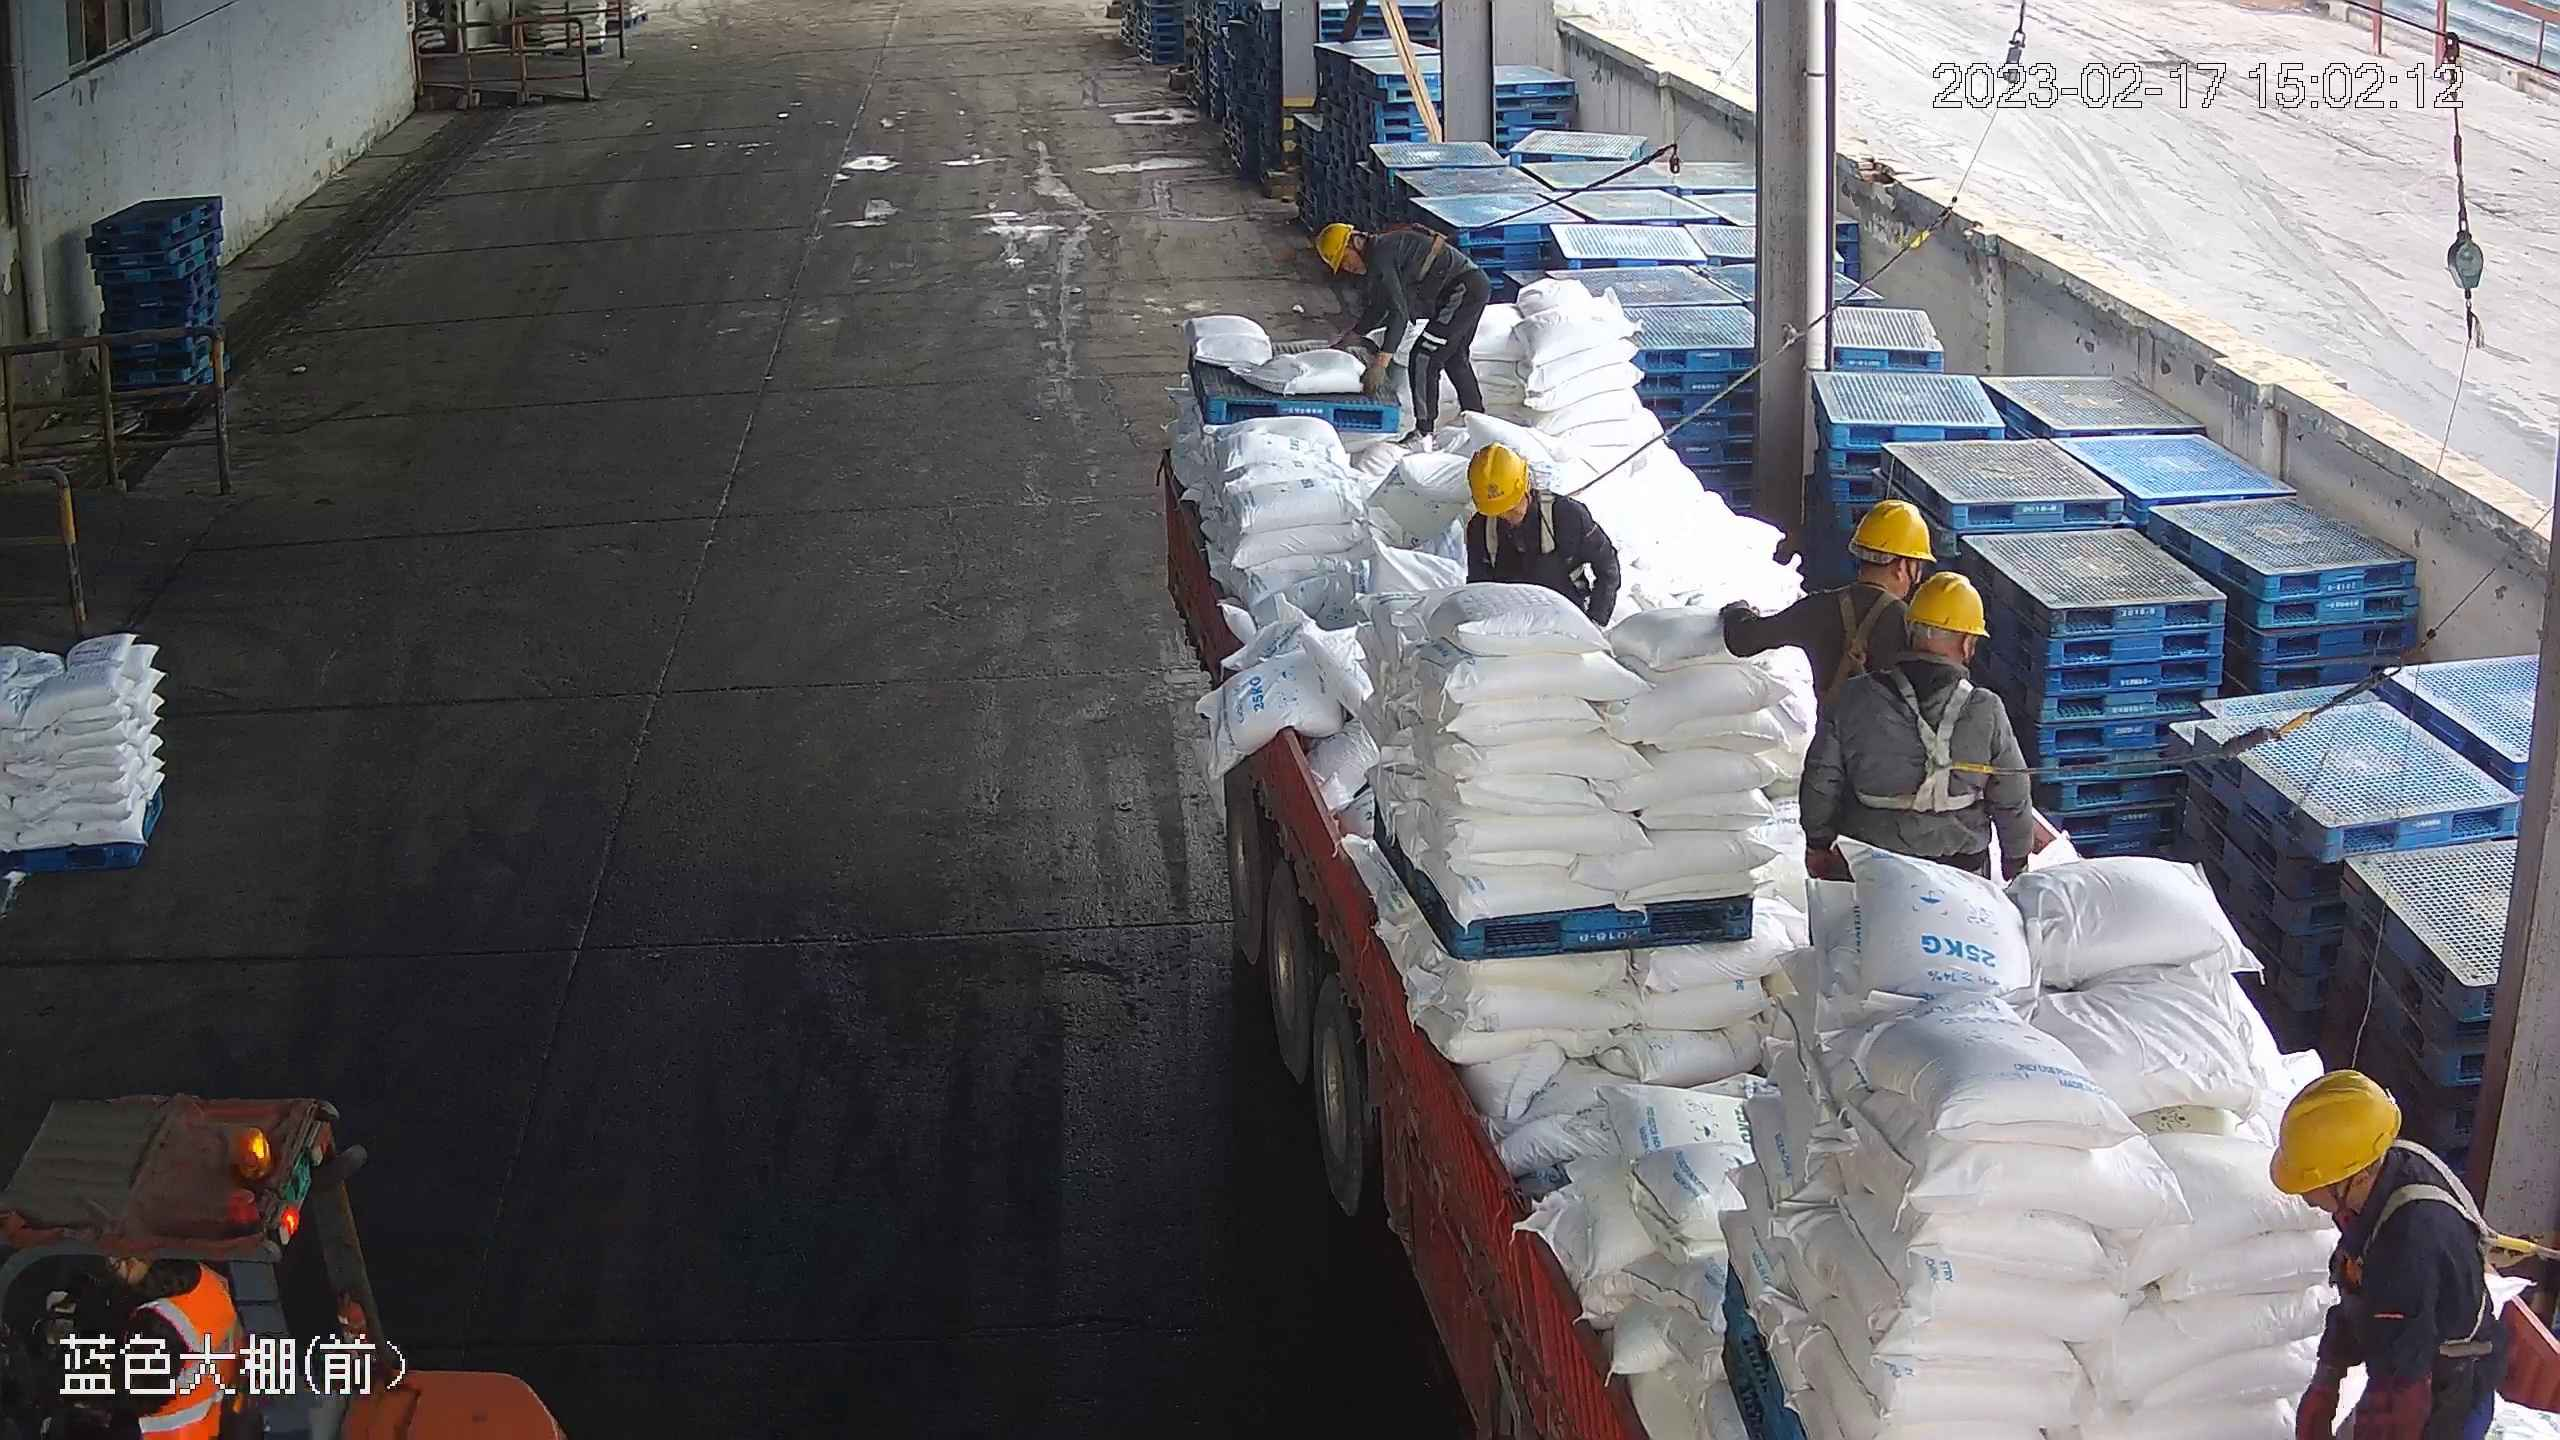belt: (2338, 1146, 2517, 1361), (1855, 665, 2003, 819), (1812, 575, 1913, 695), (1467, 499, 1575, 556), (1365, 220, 1448, 287)
head: (2264, 1073, 2496, 1298), (1834, 571, 2016, 751), (1790, 495, 1939, 648), (1462, 441, 1601, 548), (1317, 219, 1416, 296)
helmet: (2263, 1073, 2400, 1193), (1901, 569, 1988, 643), (1845, 496, 1935, 563), (1465, 439, 1531, 515), (1316, 219, 1356, 274)
people: (2259, 1072, 2505, 1440), (1725, 494, 1944, 892), (1807, 565, 2041, 886), (1315, 219, 1495, 445)
truck: (1184, 197, 2560, 1440)
